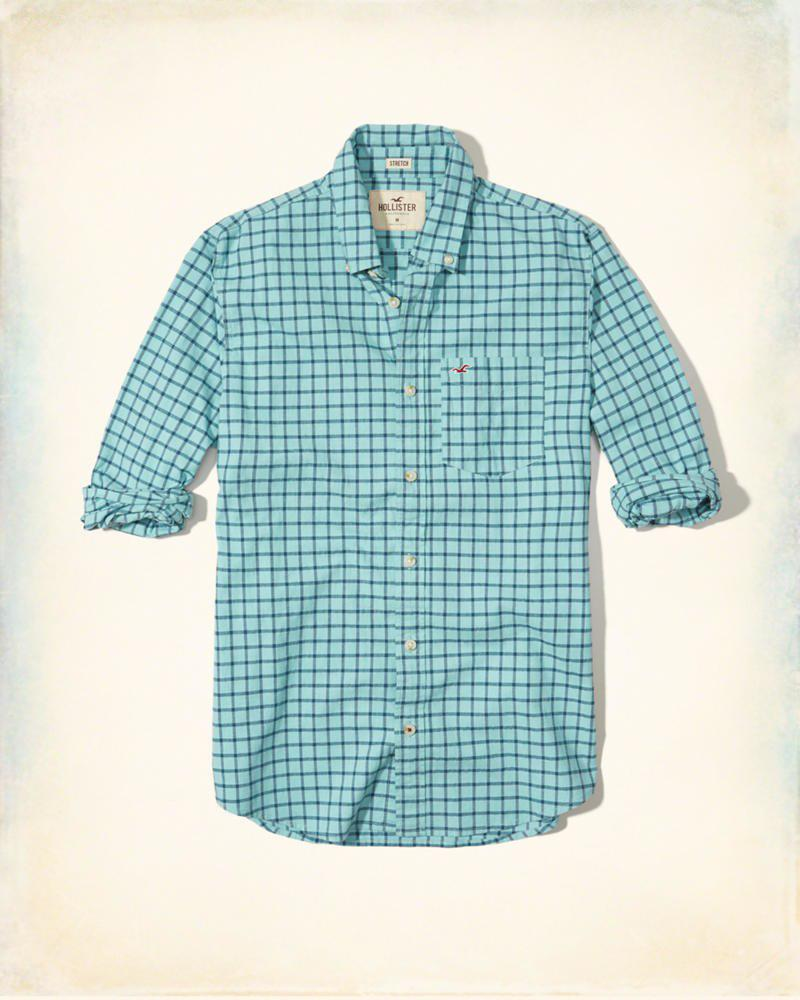teeshirt: (82, 122, 721, 840)
